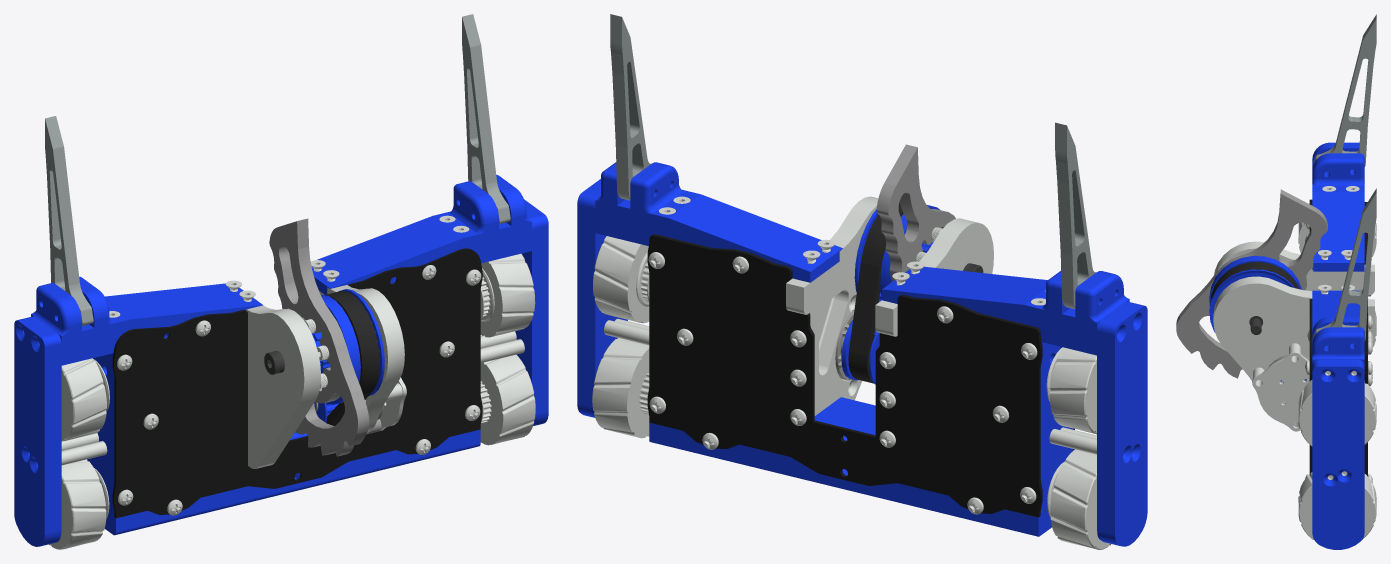
Rendered from 3lb-vertical-spinner.glb.
3 renders of one model, left to right at view 1: azimuth 30°, elevation 25°; view 2: azimuth 150°, elevation 25°; view 3: azimuth 270°, elevation 25°, orthographic. The views are drawn at different scales.
Size of the model in its own units: 286 by 221 by 115.
